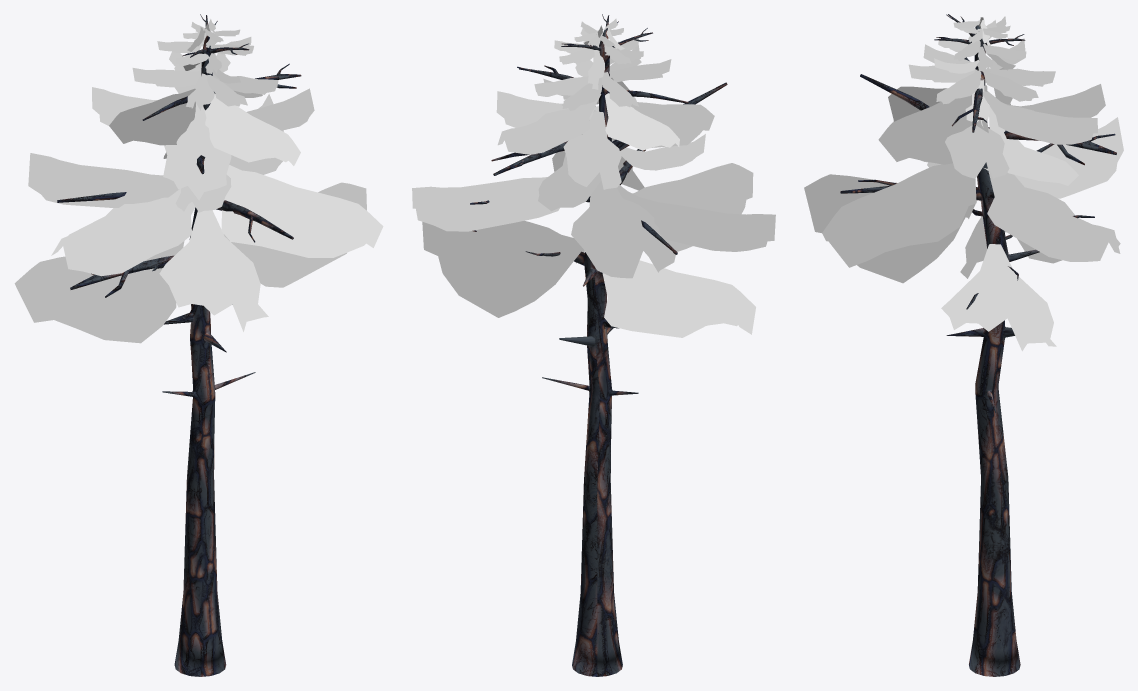
File: Arbre_PinSimple_1.fbx
The picture shows the model from 3 angles, left to right: view 1: azimuth 30°, elevation 25°; view 2: azimuth 150°, elevation 25°; view 3: azimuth 270°, elevation 25°; orthographic projection.
Visible parts, largest first — view 1: Arbre_PinSimple_1; view 2: Arbre_PinSimple_1; view 3: Arbre_PinSimple_1.
Part boxes in pixels (x1,y1,x2,y2): Arbre_PinSimple_1: (14,14,383,676); Arbre_PinSimple_1: (412,14,775,676); Arbre_PinSimple_1: (804,14,1123,676).
Bounding box in the file's own units: 678 × 1210 × 542.
